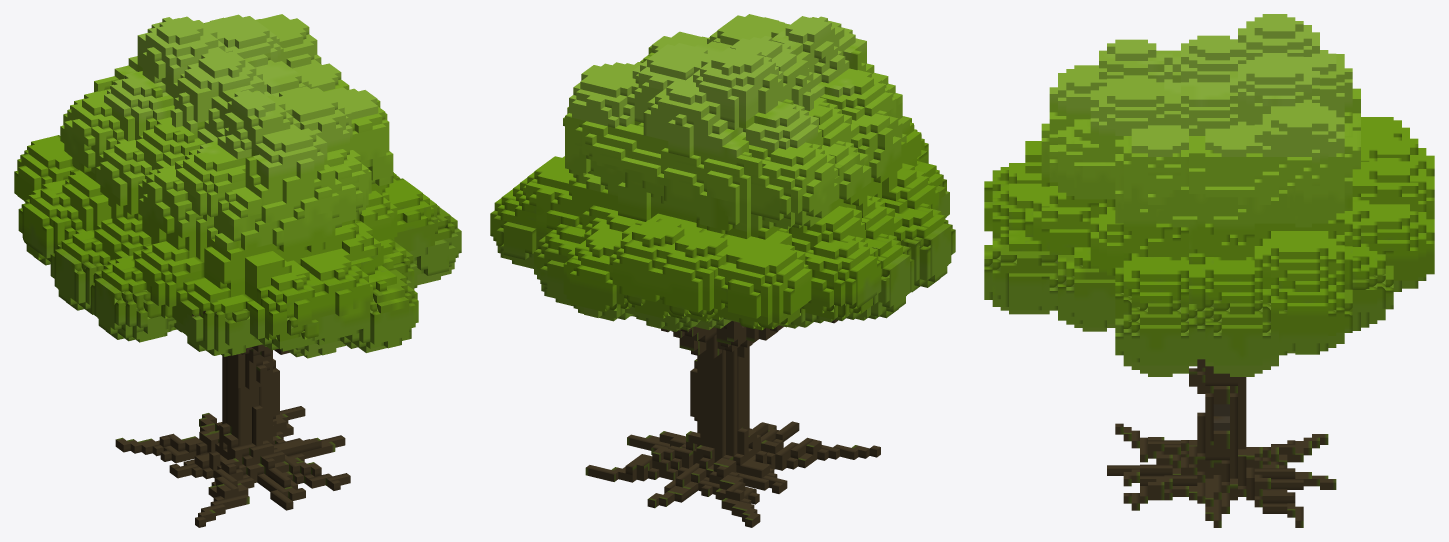
The model's file is oak_tree_spring.fbx.
3 views of the same model, side by side, from view 1: azimuth 30°, elevation 25°; view 2: azimuth 150°, elevation 25°; view 3: azimuth 270°, elevation 25° (orthographic). The views are drawn at different scales.
Visible parts, largest first — view 1: oak_tree_spring; view 2: oak_tree_spring; view 3: oak_tree_spring.
Part boxes in pixels (x1,y1,x2,y2): oak_tree_spring: (14, 14, 461, 527); oak_tree_spring: (490, 14, 955, 527); oak_tree_spring: (984, 14, 1434, 527).
Bounding box in the file's own units: 1064 × 1256 × 1171.
1 material, 1 textured.
